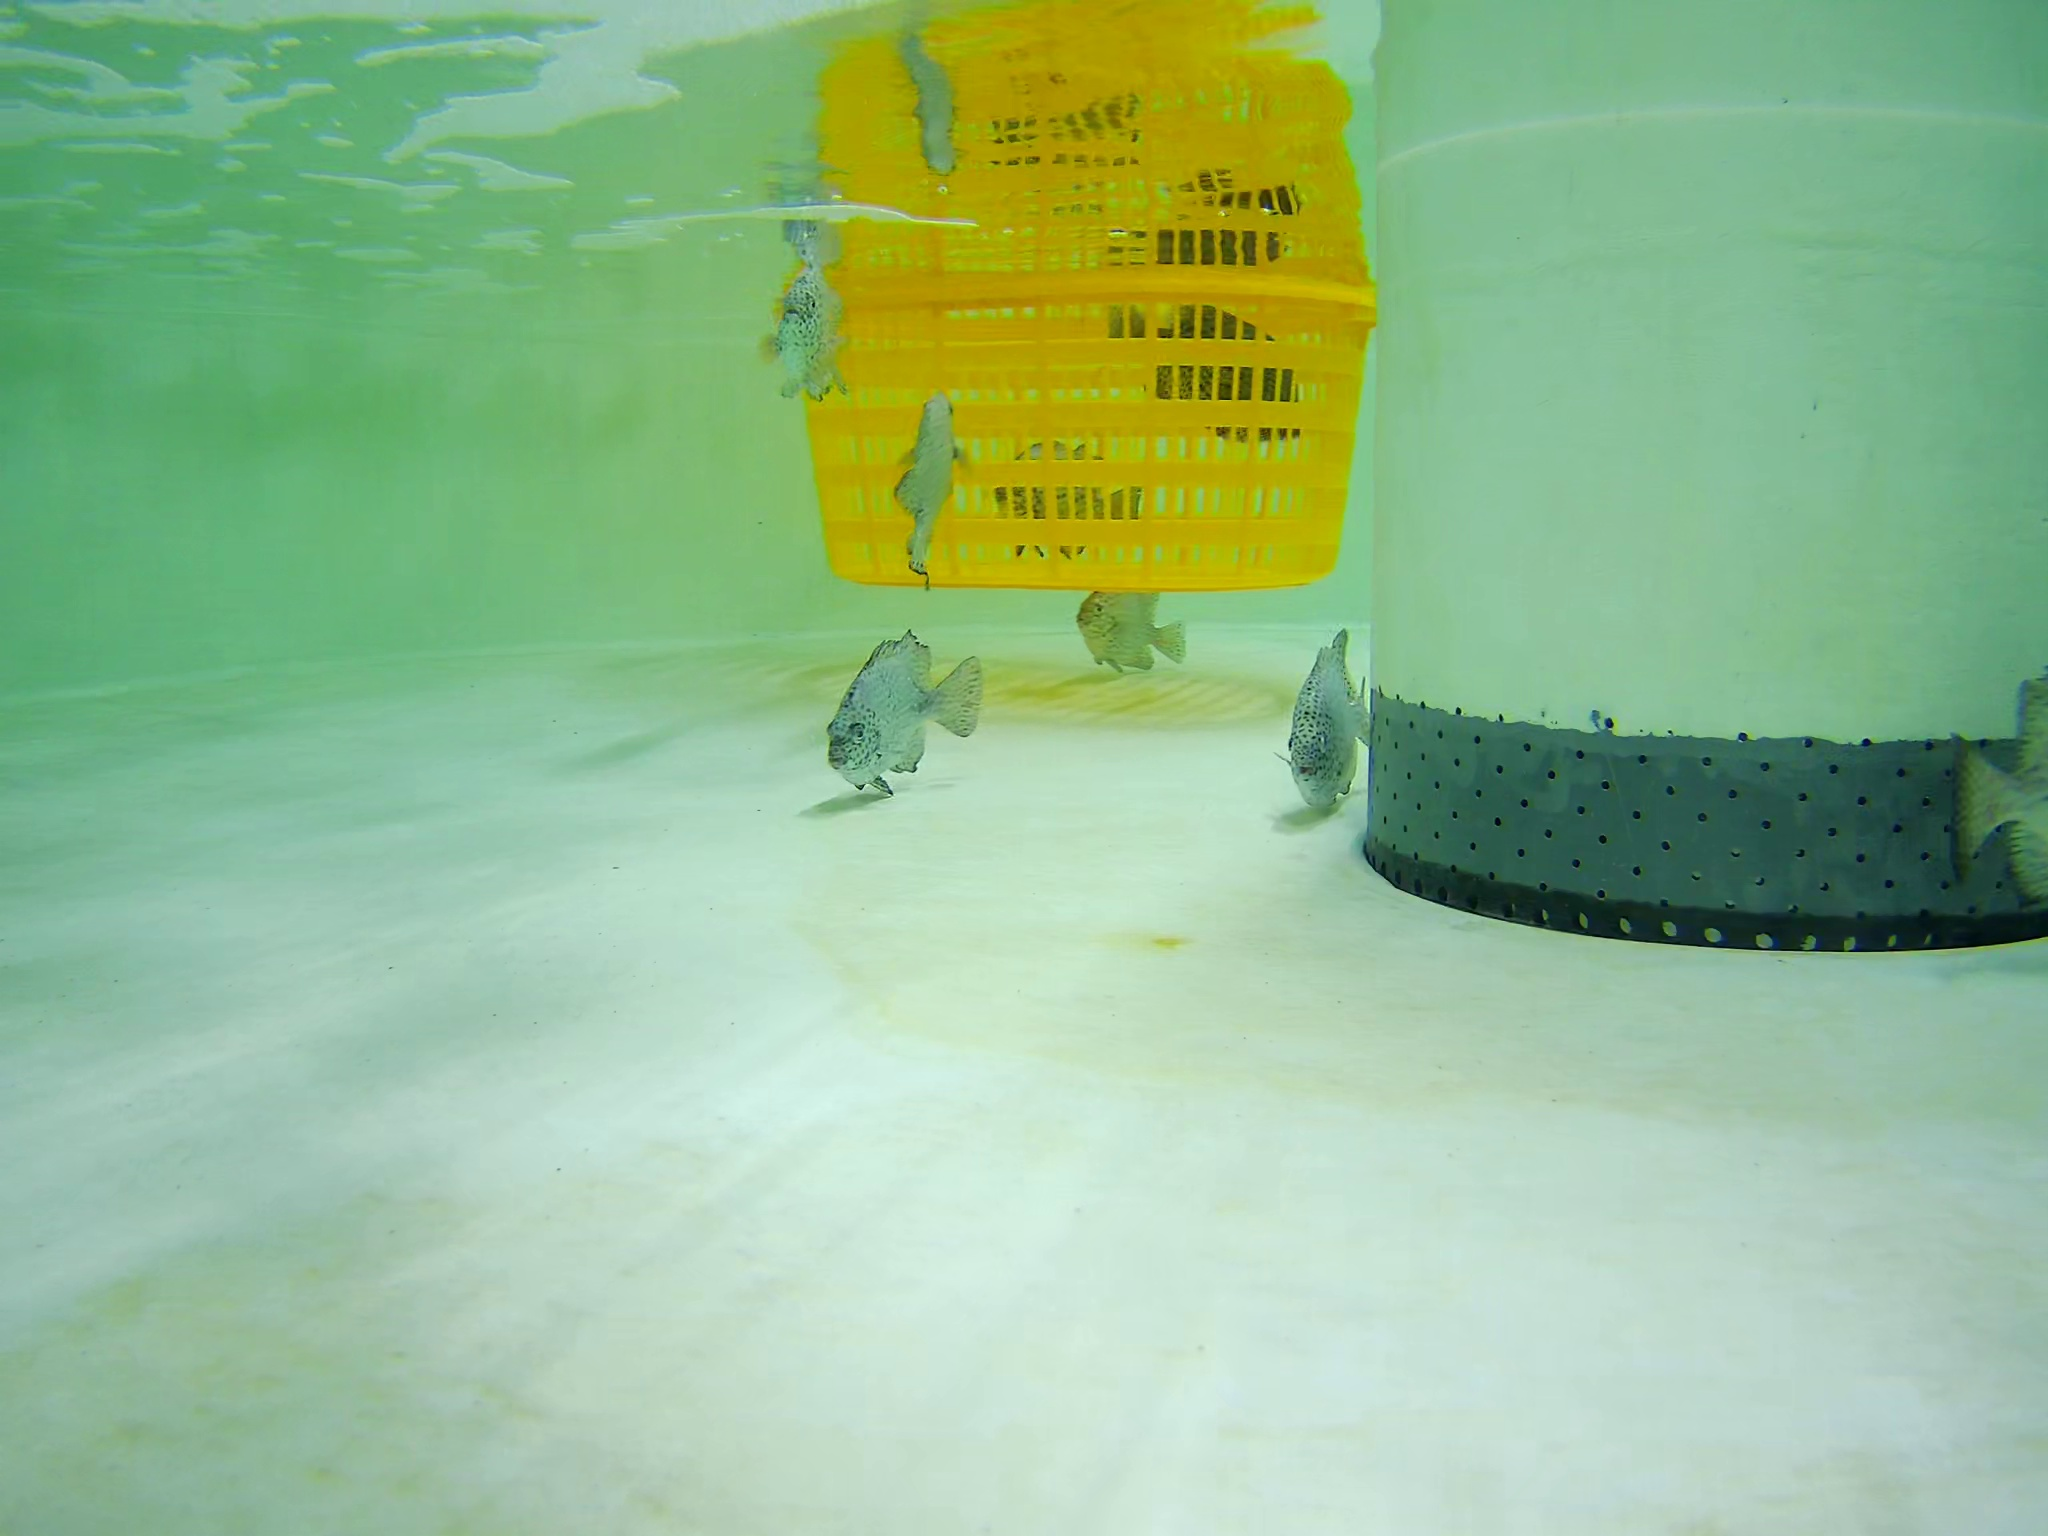fish: (1106, 290, 1313, 452), (819, 629, 989, 794), (1958, 676, 2048, 929), (985, 436, 1145, 555), (1274, 634, 1374, 820), (768, 216, 853, 411), (1068, 573, 1185, 666), (895, 400, 961, 561)
